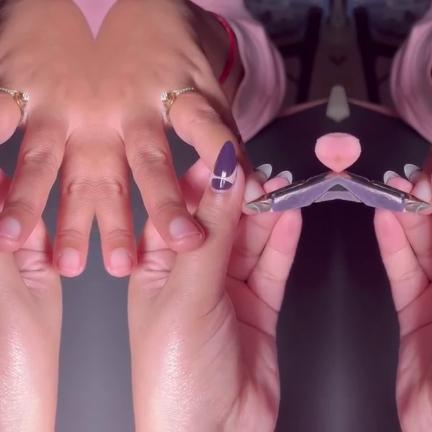Nail: (210, 140, 236, 192), (168, 216, 200, 240), (109, 248, 131, 272), (57, 248, 79, 272), (0, 216, 20, 240)
